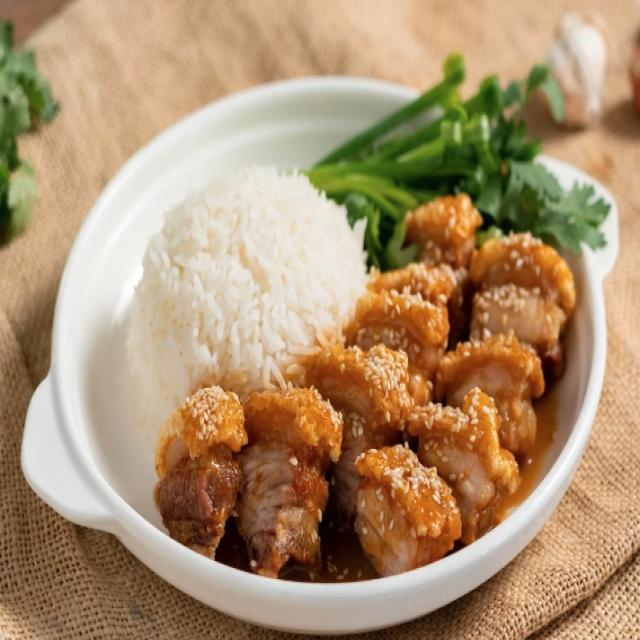Carbohydrate: (121, 168, 367, 469)
Kaow-Crispymoo: (21, 67, 618, 636)
Protein: (153, 194, 576, 562)
Vegetable: (302, 63, 610, 260)
